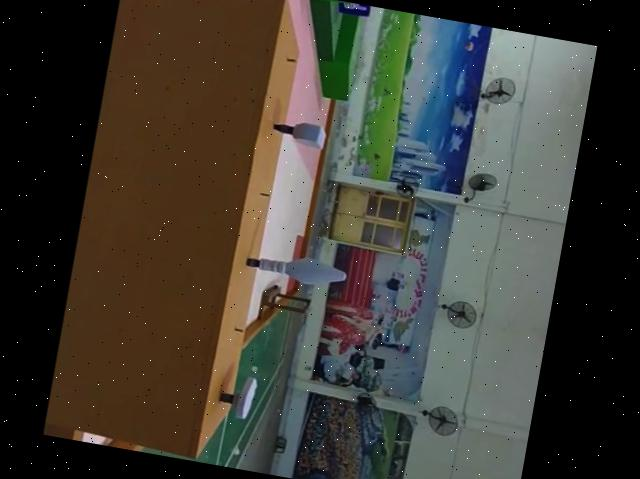Fist: (272, 114, 328, 149)
Hand: (218, 373, 261, 421)
Sph: (242, 245, 348, 290)
